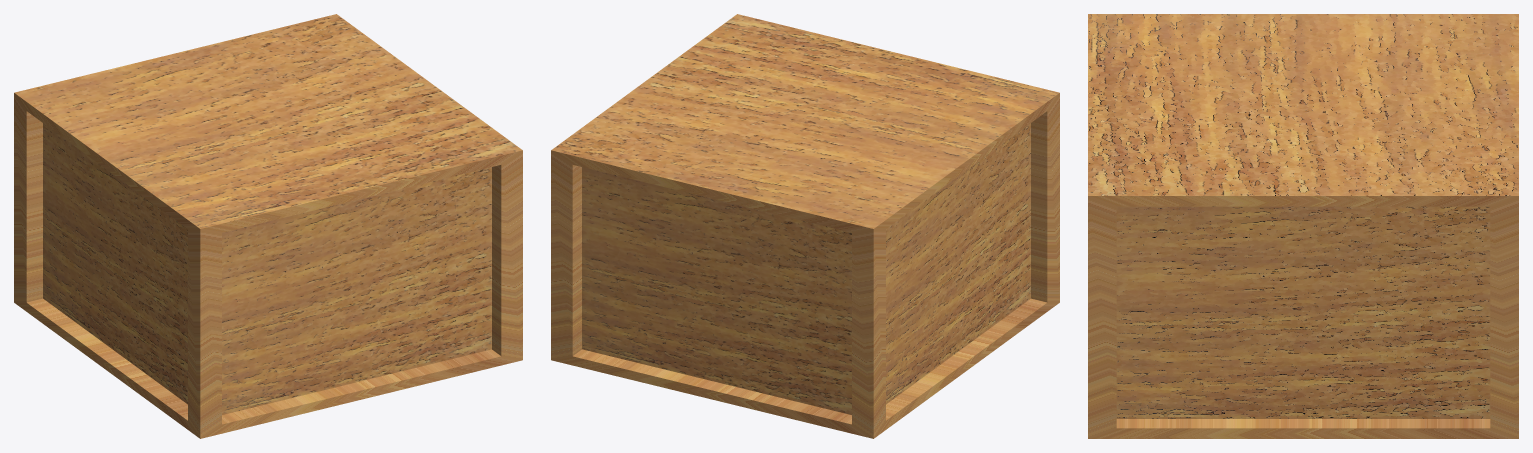
File: CrateLarge.fbx
3 renders of one model, left to right at view 1: azimuth 30°, elevation 25°; view 2: azimuth 150°, elevation 25°; view 3: azimuth 270°, elevation 25°, orthographic. The views are drawn at different scales.
Parts seen in each view (by area): view 1: CrateLarge; view 2: CrateLarge; view 3: CrateLarge.
Boxes of the visible parts, x1,y1,x2,y2 form: CrateLarge: [14, 14, 522, 438]; CrateLarge: [551, 14, 1059, 438]; CrateLarge: [1088, 14, 1518, 438].
Bounding box in the file's own units: 3.68 × 2.29 × 3.68.
